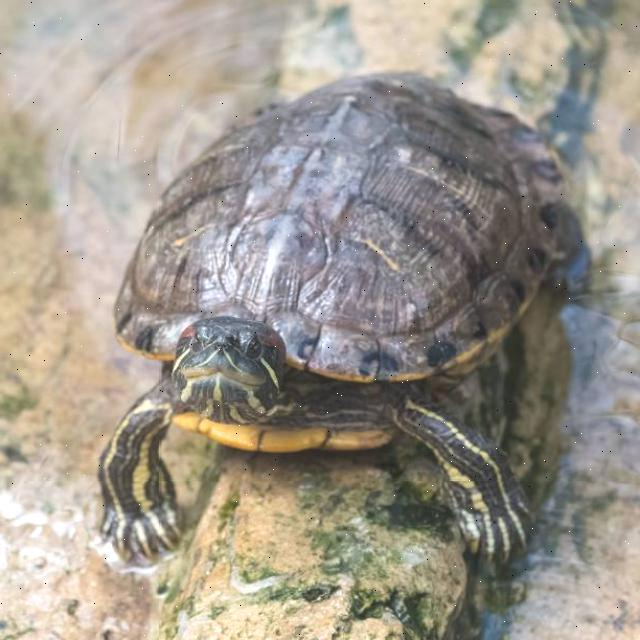tortoise: (75, 66, 570, 584)
